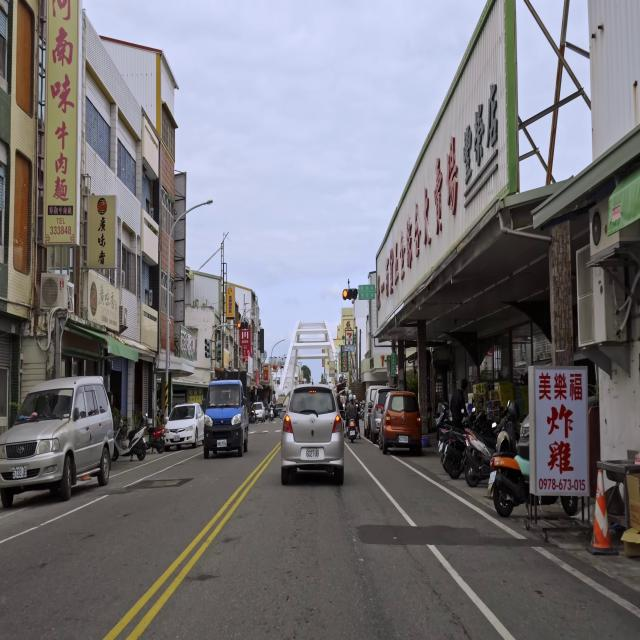red light: (342, 288, 358, 301), (237, 321, 249, 330)
